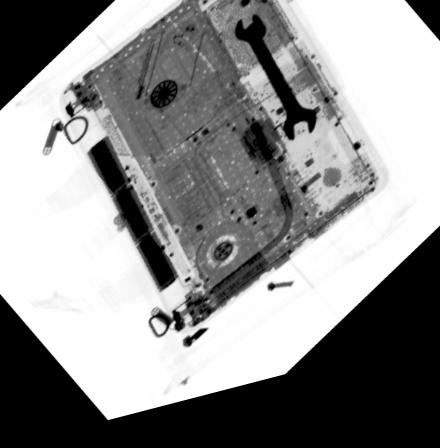Wrench: (231, 24, 317, 159)
